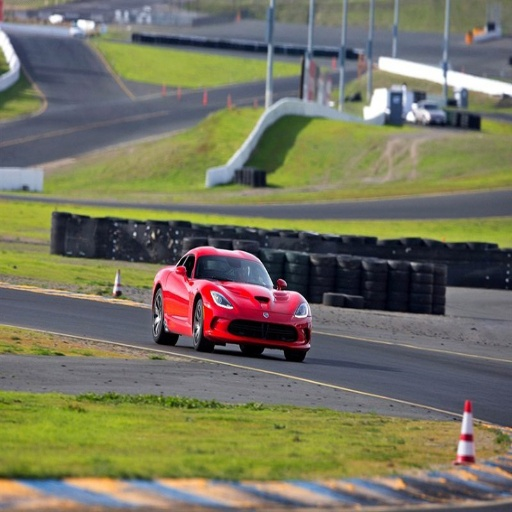trunk: (16, 123, 145, 213)
